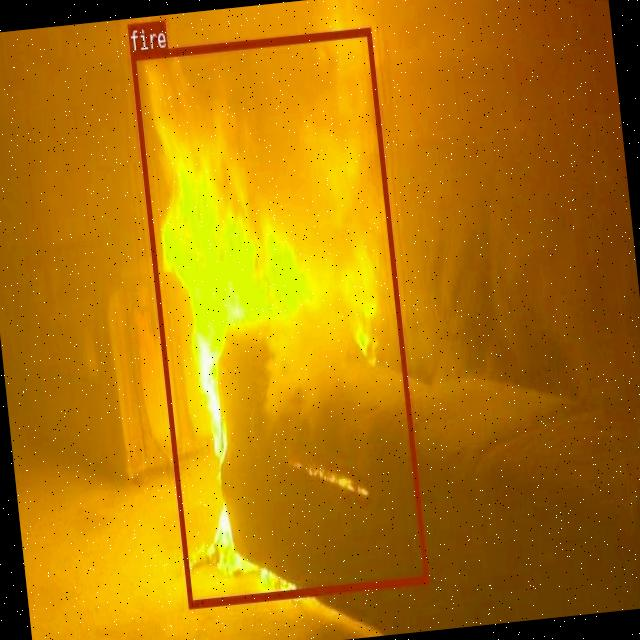fire: (130, 26, 428, 608)
